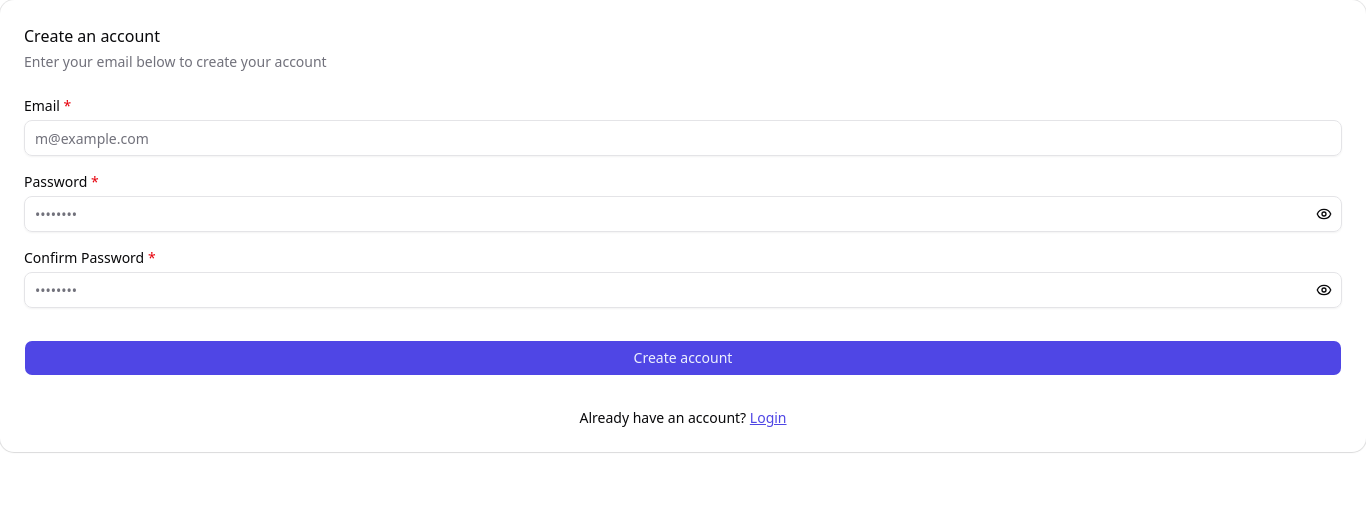
Test case: RegisterForm - Validation Logic › Error Clearing on Input Change › should clear password error when password field is modified
// Fill in email and confirm password but leave password empty
Type "test@example.com" into the field with placeholder "m@example.com" at {"x": 683, "y": 138}, box [24,120,1342,156]
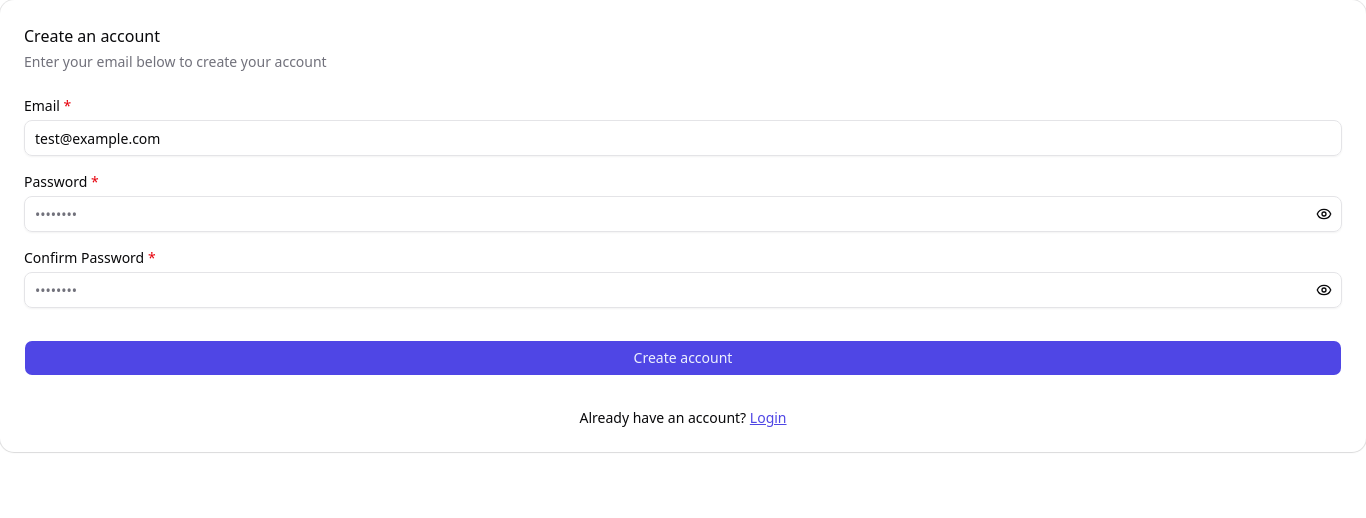
Type "password123" into the password field with placeholder "••••••••" below "Confirm Password" at {"x": 683, "y": 290}, box [24,272,1342,308]
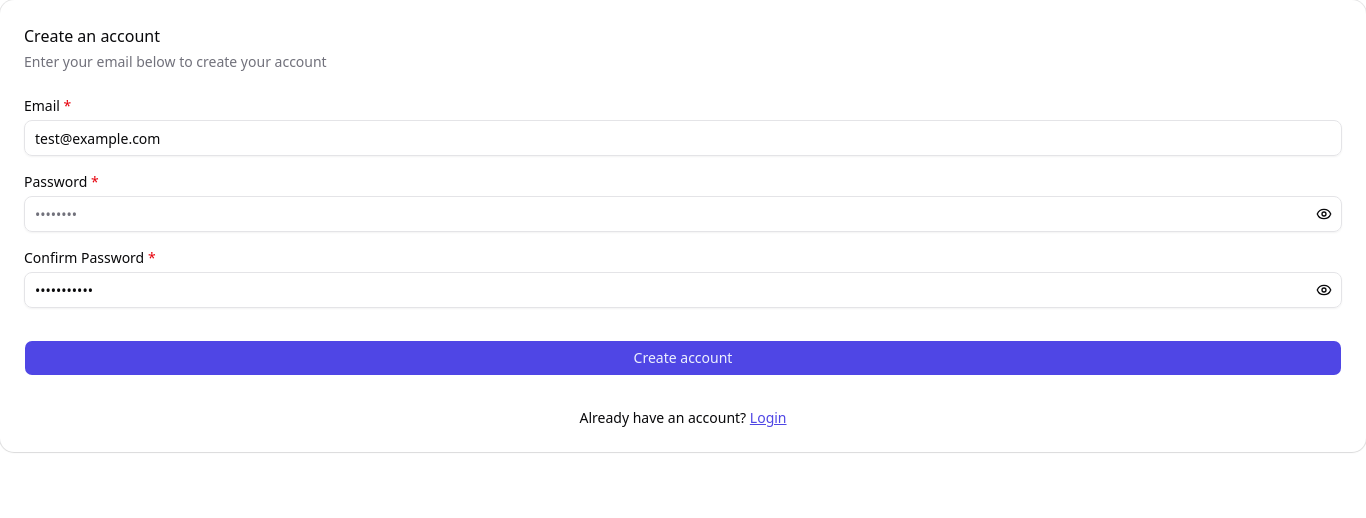
// Submit to trigger validation
Click the button "Create account" at {"x": 683, "y": 358}, box [24,340,1342,376]
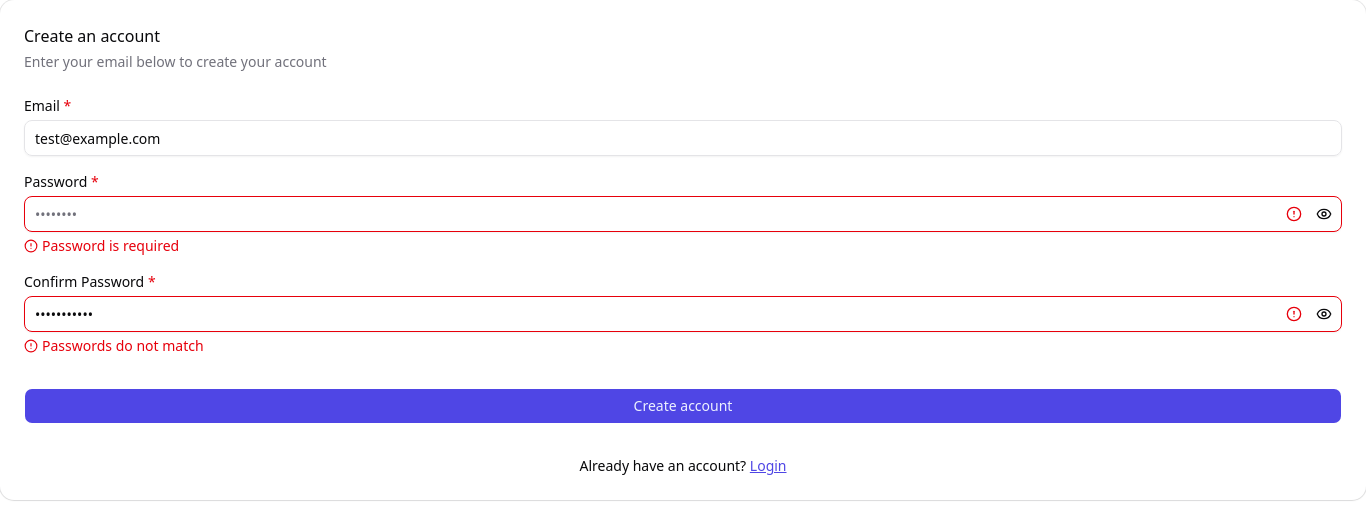
expect the text "Password is required" is shown: met, box [24,236,179,255]
// Now modify the password field
Type "password123" into the password field with placeholder "••••••••" at {"x": 683, "y": 214}, box [24,196,1342,232]
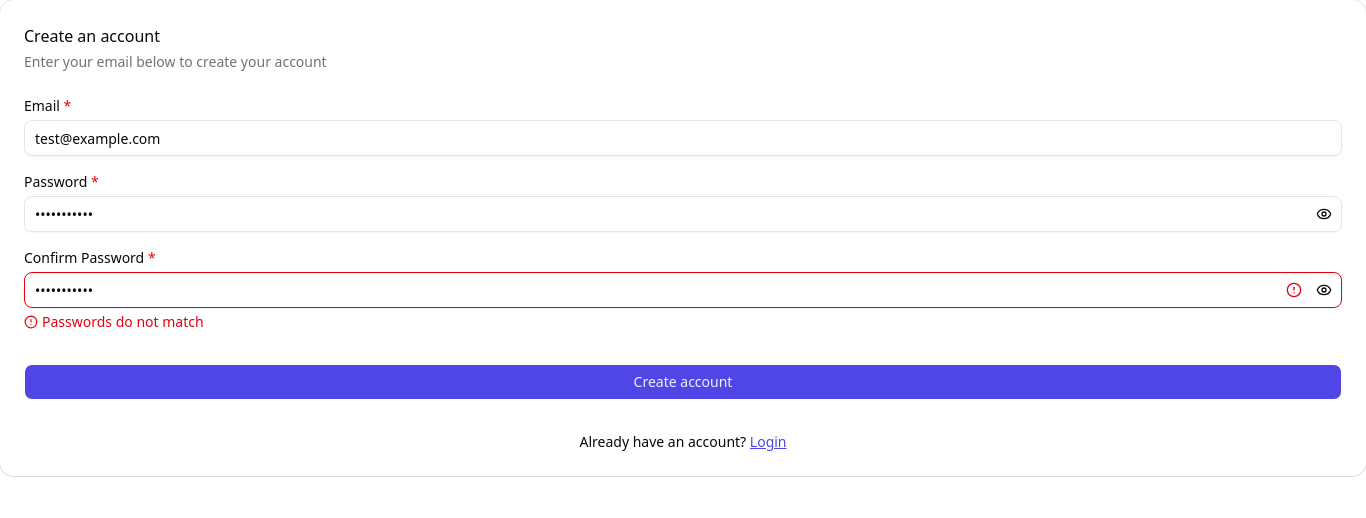
expect the text "Password is required" is gone: met
